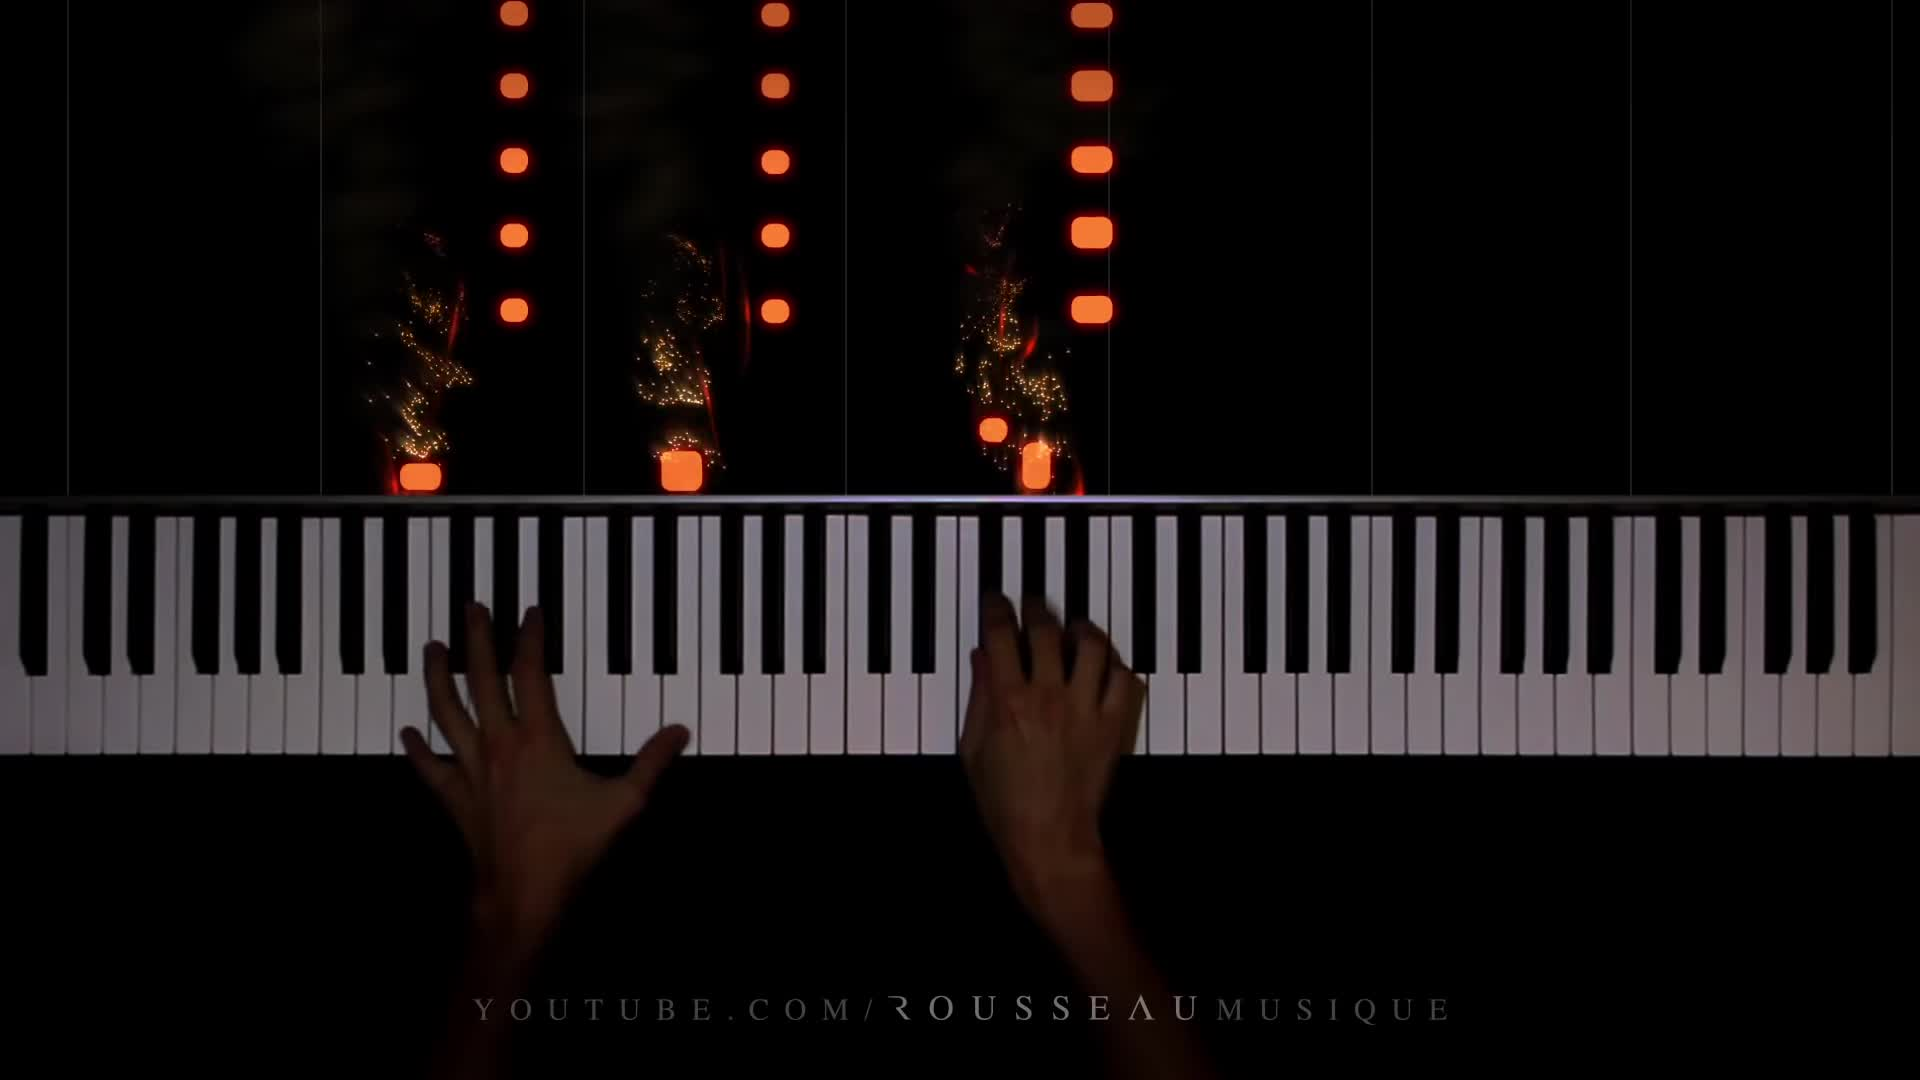left: (400, 601, 686, 869)
right: (953, 591, 1145, 851)
